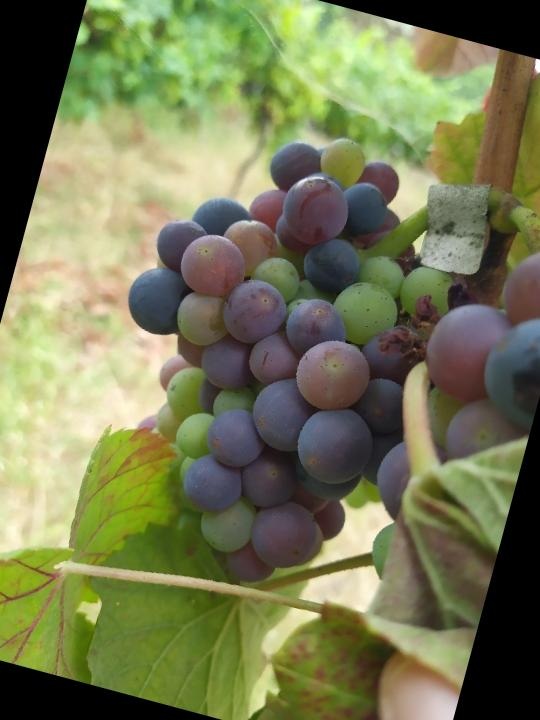grape: (59, 89, 472, 614)
